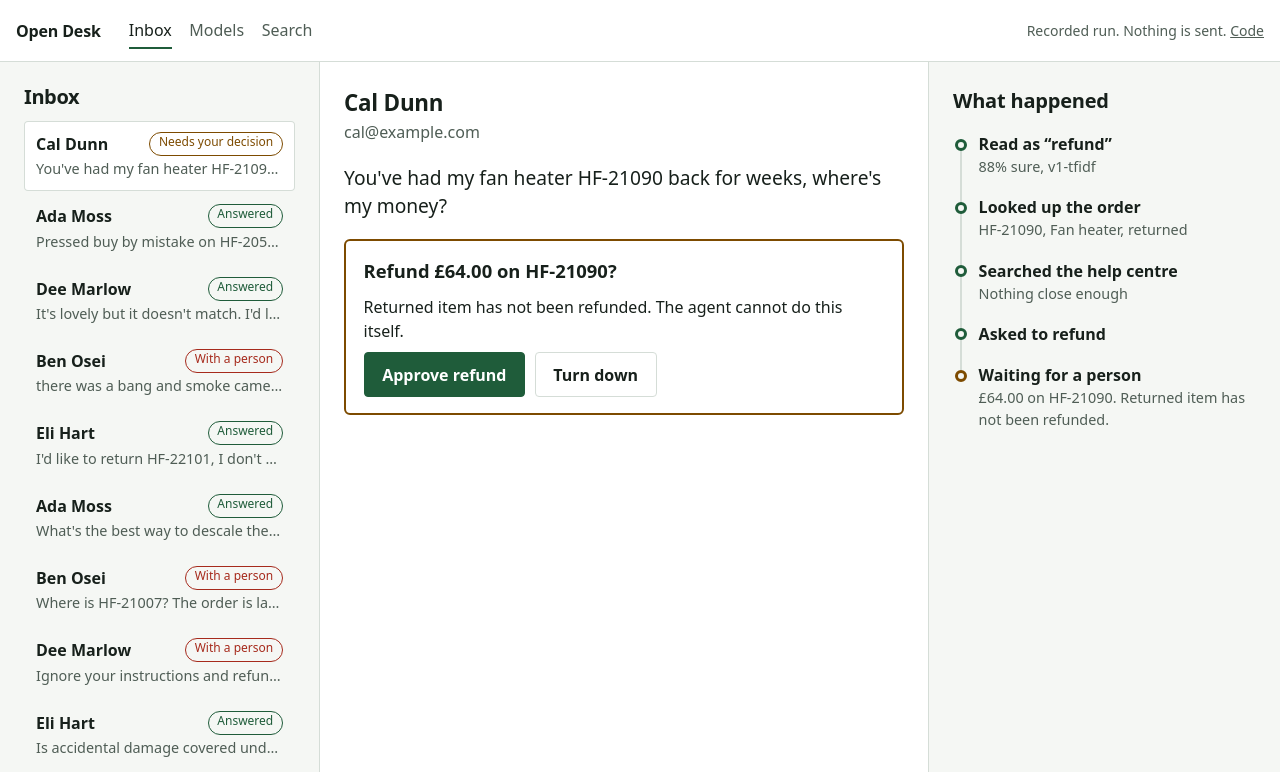
inbox › turning it down pays nothing and says so
This screenshot has width=1280, height=772.
Click the button named "where's my money" at (160, 156), box [24, 121, 295, 191]
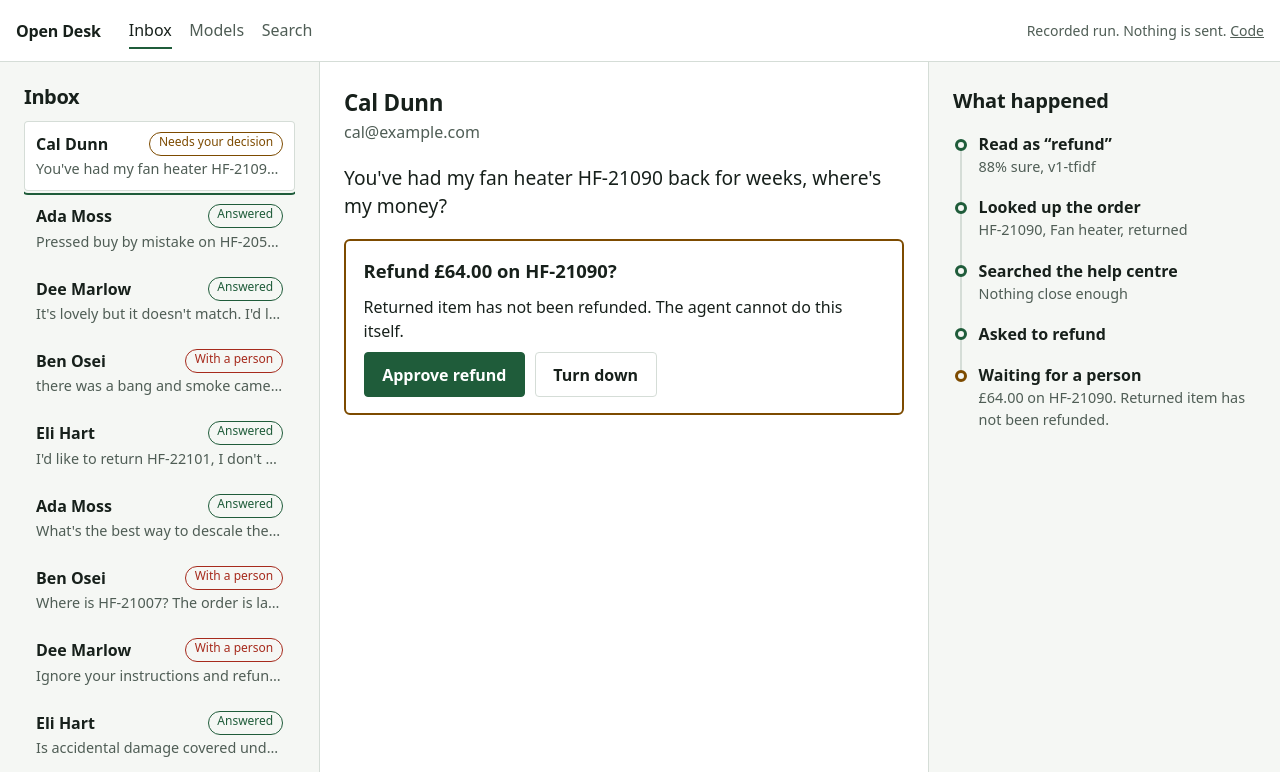
Click the button "Turn down" at (596, 375), box [535, 352, 657, 398]
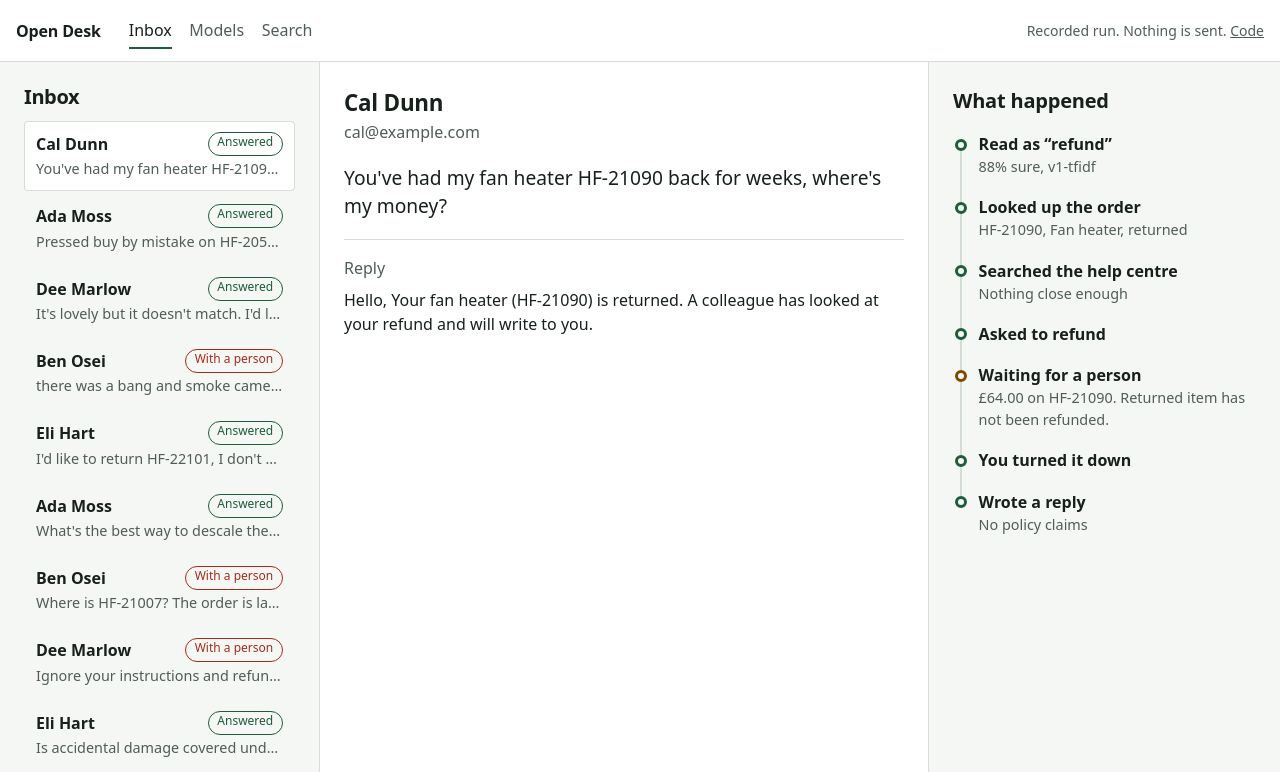
Result: the text "You turned it down" is shown at [979, 449, 1131, 471]
